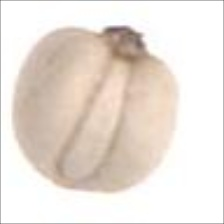L5: (58, 53, 133, 181), (92, 17, 155, 69), (44, 169, 86, 195)
L6: (10, 23, 180, 199)
